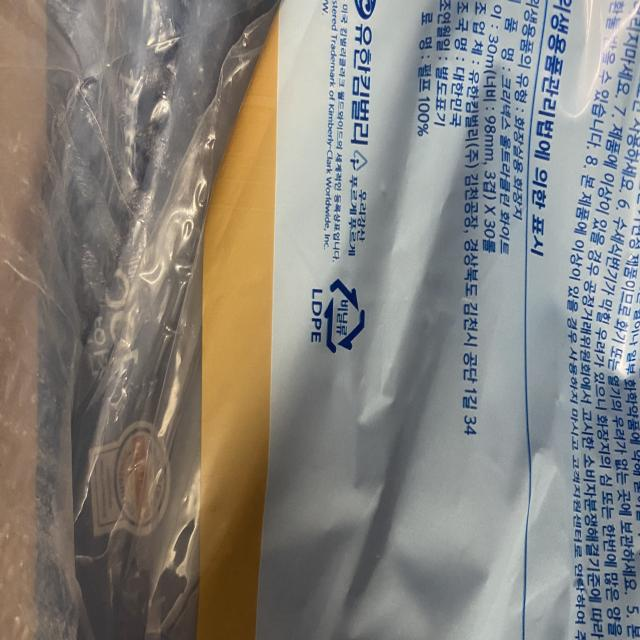Vinyl: (326, 276, 368, 362)
